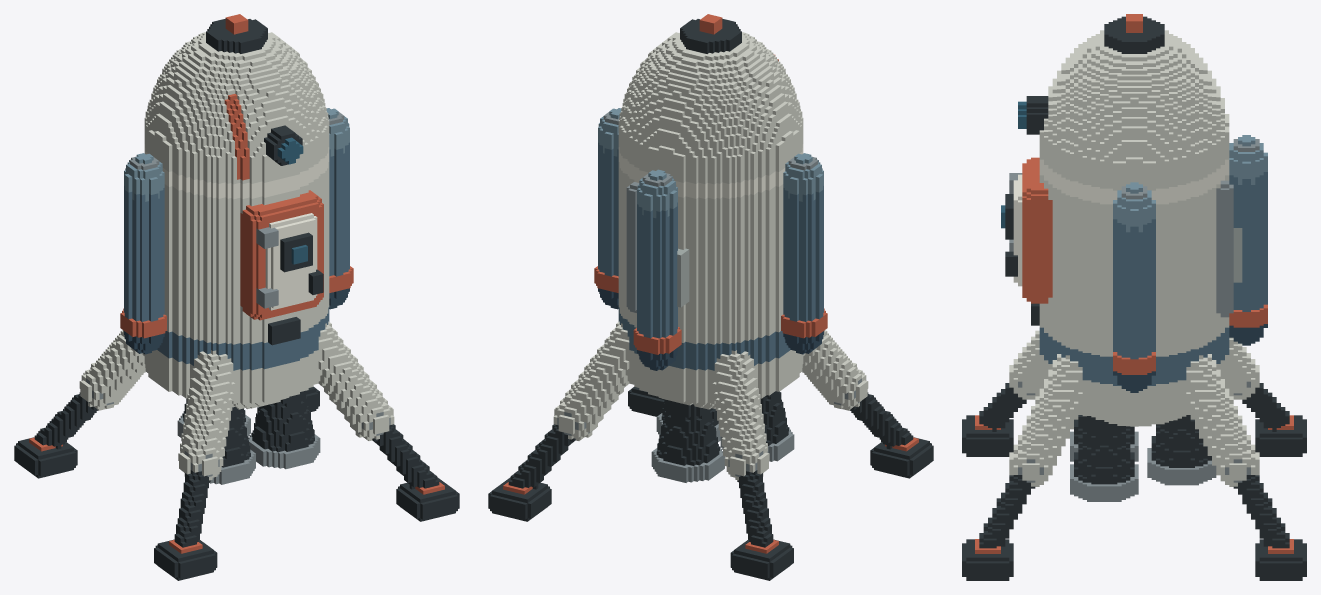
Rendered from transport_rocket.glb.
3 renders of one model, left to right at view 1: azimuth 30°, elevation 25°; view 2: azimuth 150°, elevation 25°; view 3: azimuth 270°, elevation 25°, orthographic. The views are drawn at different scales.
Visible parts, largest first — view 1: transport_rocket; view 2: transport_rocket; view 3: transport_rocket.
Boxes of the visible parts, bbox=[...] form: transport_rocket: bbox=[14, 14, 459, 580]; transport_rocket: bbox=[488, 14, 933, 580]; transport_rocket: bbox=[962, 14, 1306, 580].
Bounding box in the file's own units: 4.4 × 6.93 × 4.4.
